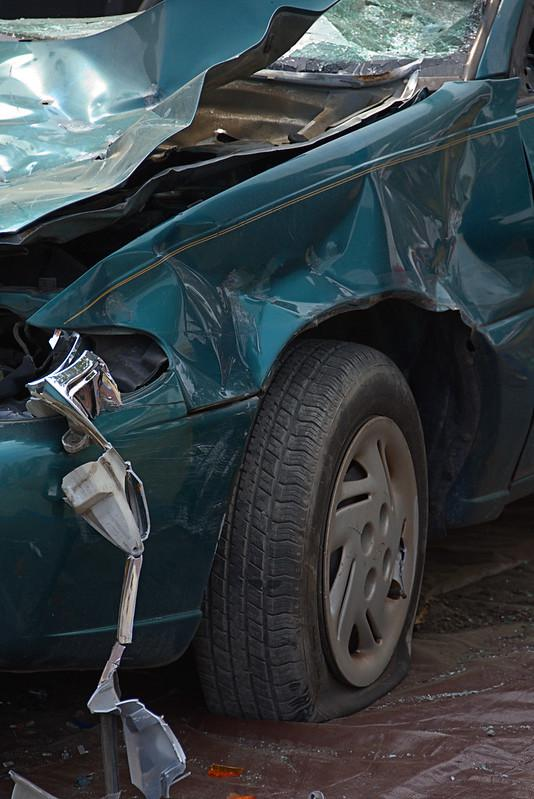bonnet-dent: (0, 0, 410, 272)
fender-dent: (51, 150, 520, 420)
